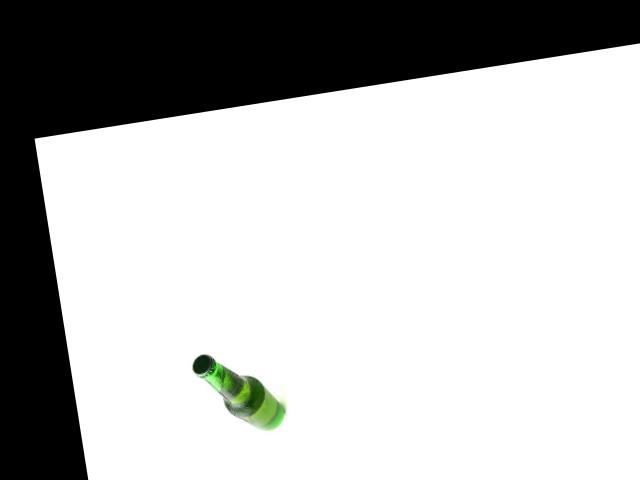beer: (190, 342, 287, 440)
